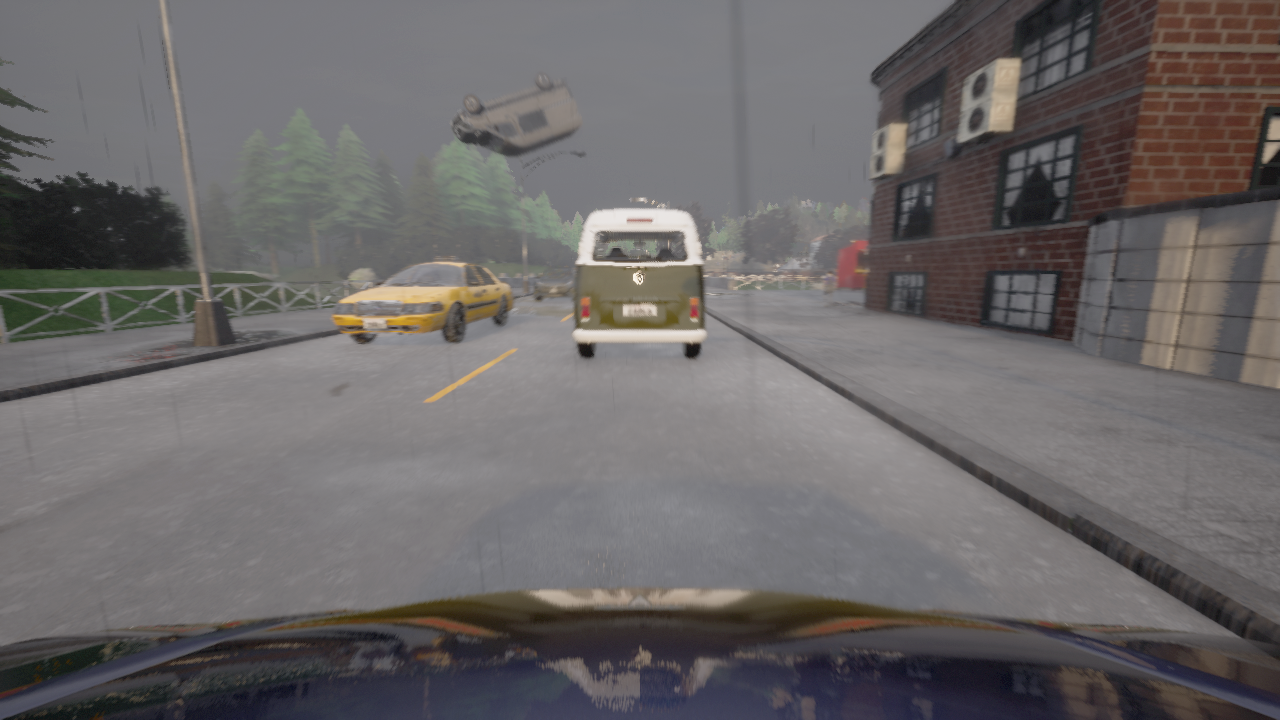cyclist: (0, 588, 1279, 719), (572, 209, 707, 358), (332, 255, 512, 343), (451, 72, 581, 157), (534, 266, 575, 300)
pedestrian: (823, 270, 836, 307)
